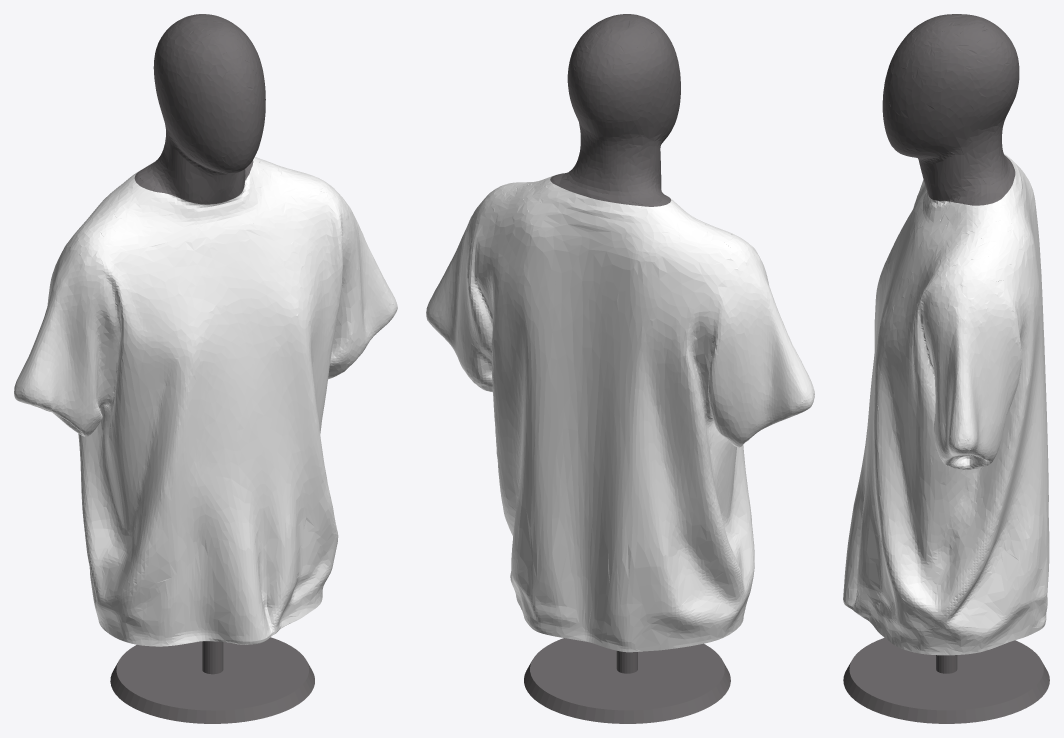
Rendered from camiseta-oversize.glb.
The picture shows the model from 3 angles, left to right: view 1: azimuth 30°, elevation 25°; view 2: azimuth 150°, elevation 25°; view 3: azimuth 270°, elevation 25°; orthographic projection.
Bounding box in the file's own units: 0.9718 × 1.6 × 0.4541.
2 materials, 1 textured.
